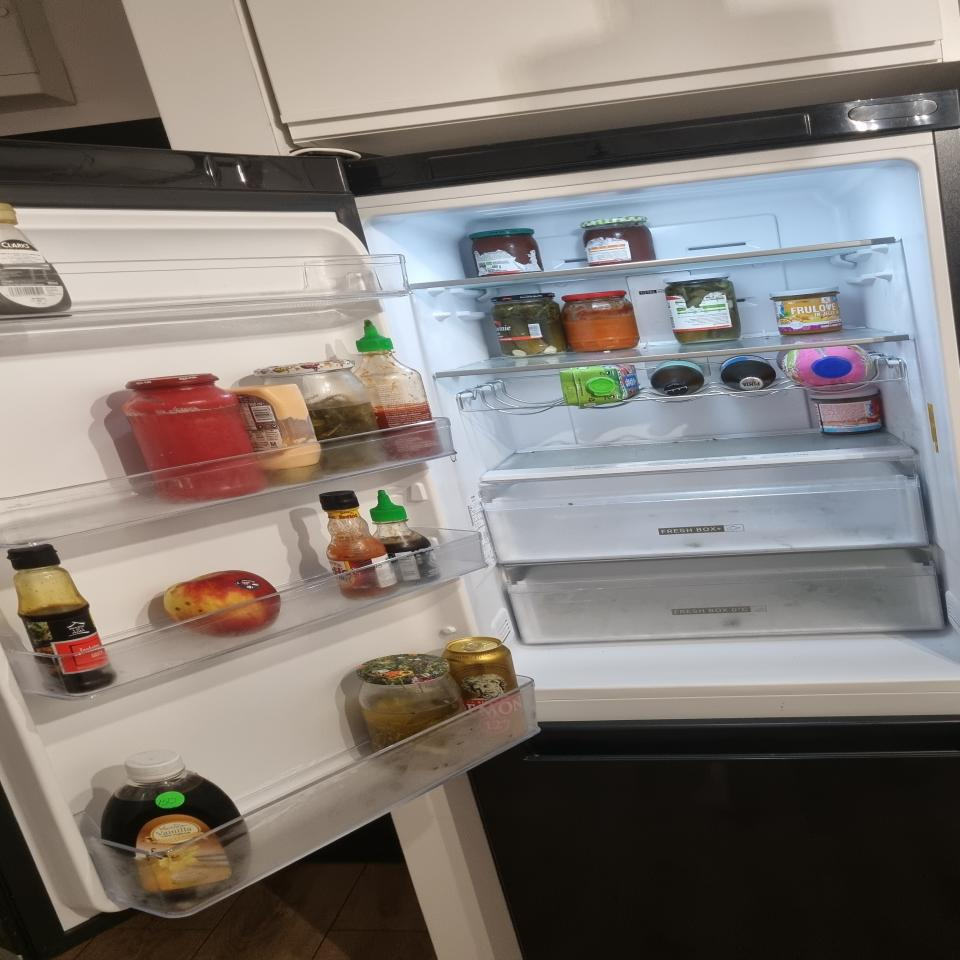Manzana: (164, 571, 280, 636)
